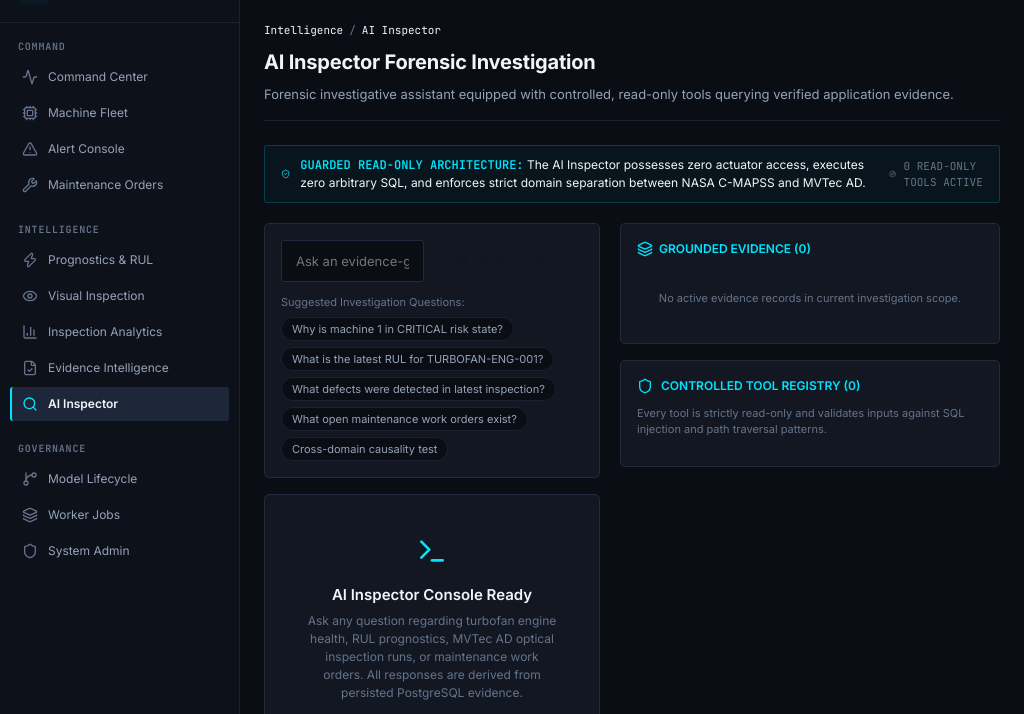
Test: AIInspectorPage (M10 Controlled AI Inspector Console) › displays provider unavailable limitation message when provider is unconfigured
Step 1. Replace the text in the field with placeholder "Ask an evidence-grounded question" with "Check status" → (353, 261), box 281,240 -> 424,282
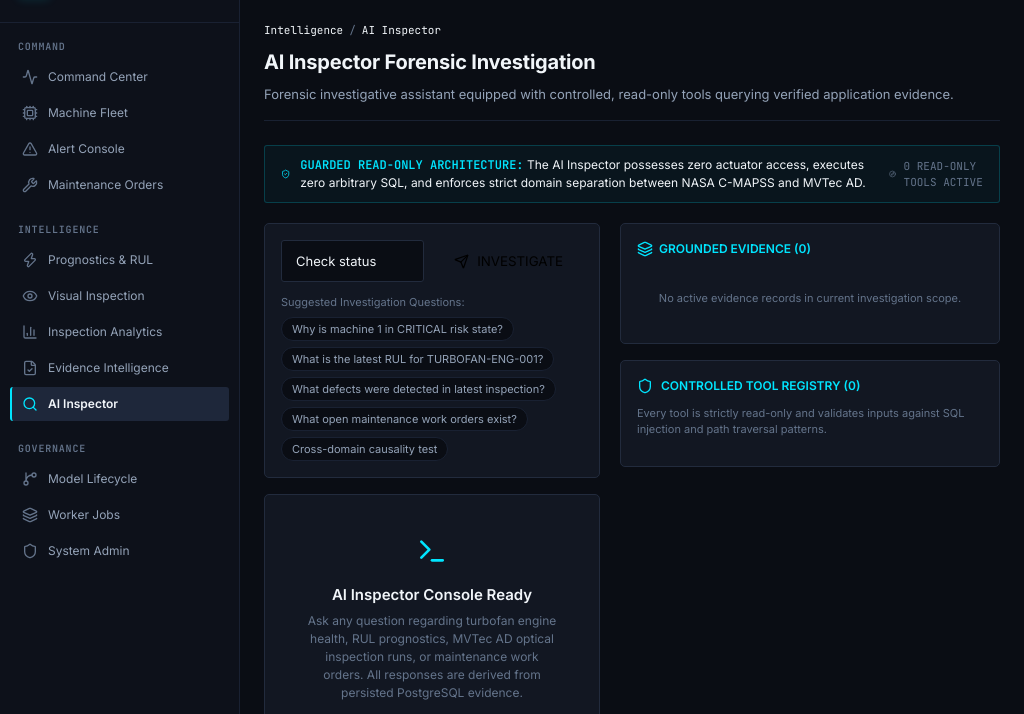
Step 2. Click the button "INVESTIGATE" → (509, 261), box 434,240 -> 583,282
(page scrolled)
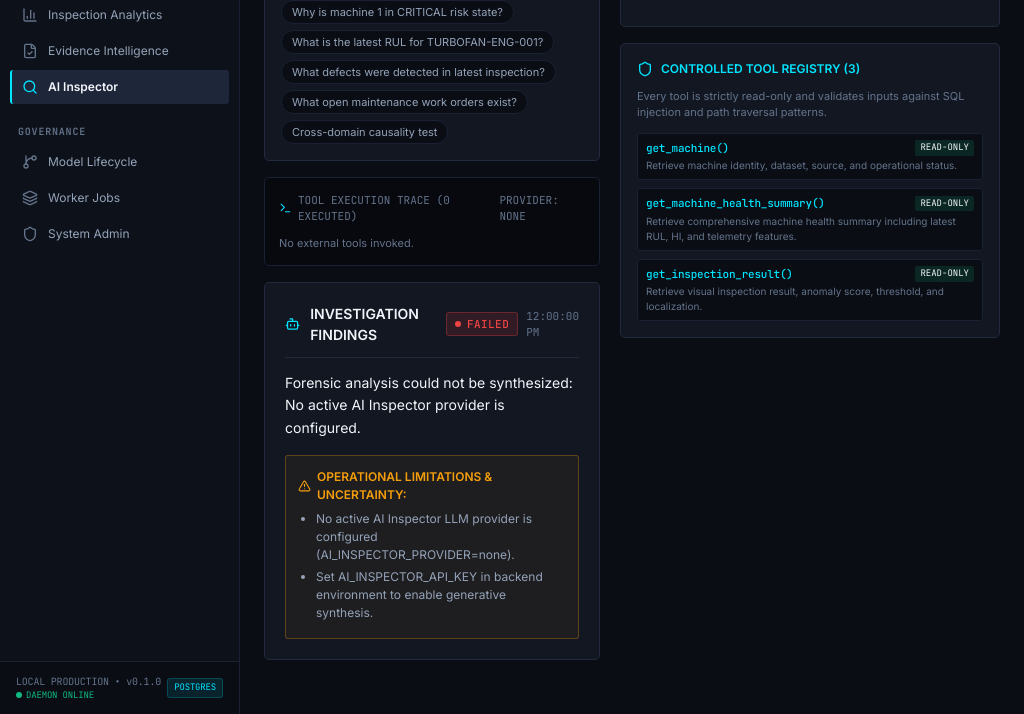
Expected: the text "Forensic analysis could not be synthesized: No active AI Inspector provider is configured" is shown, 285,374 -> 573,436
Expected: the list item "No active AI Inspector LLM provider is configured" is shown, 316,511 -> 532,562
